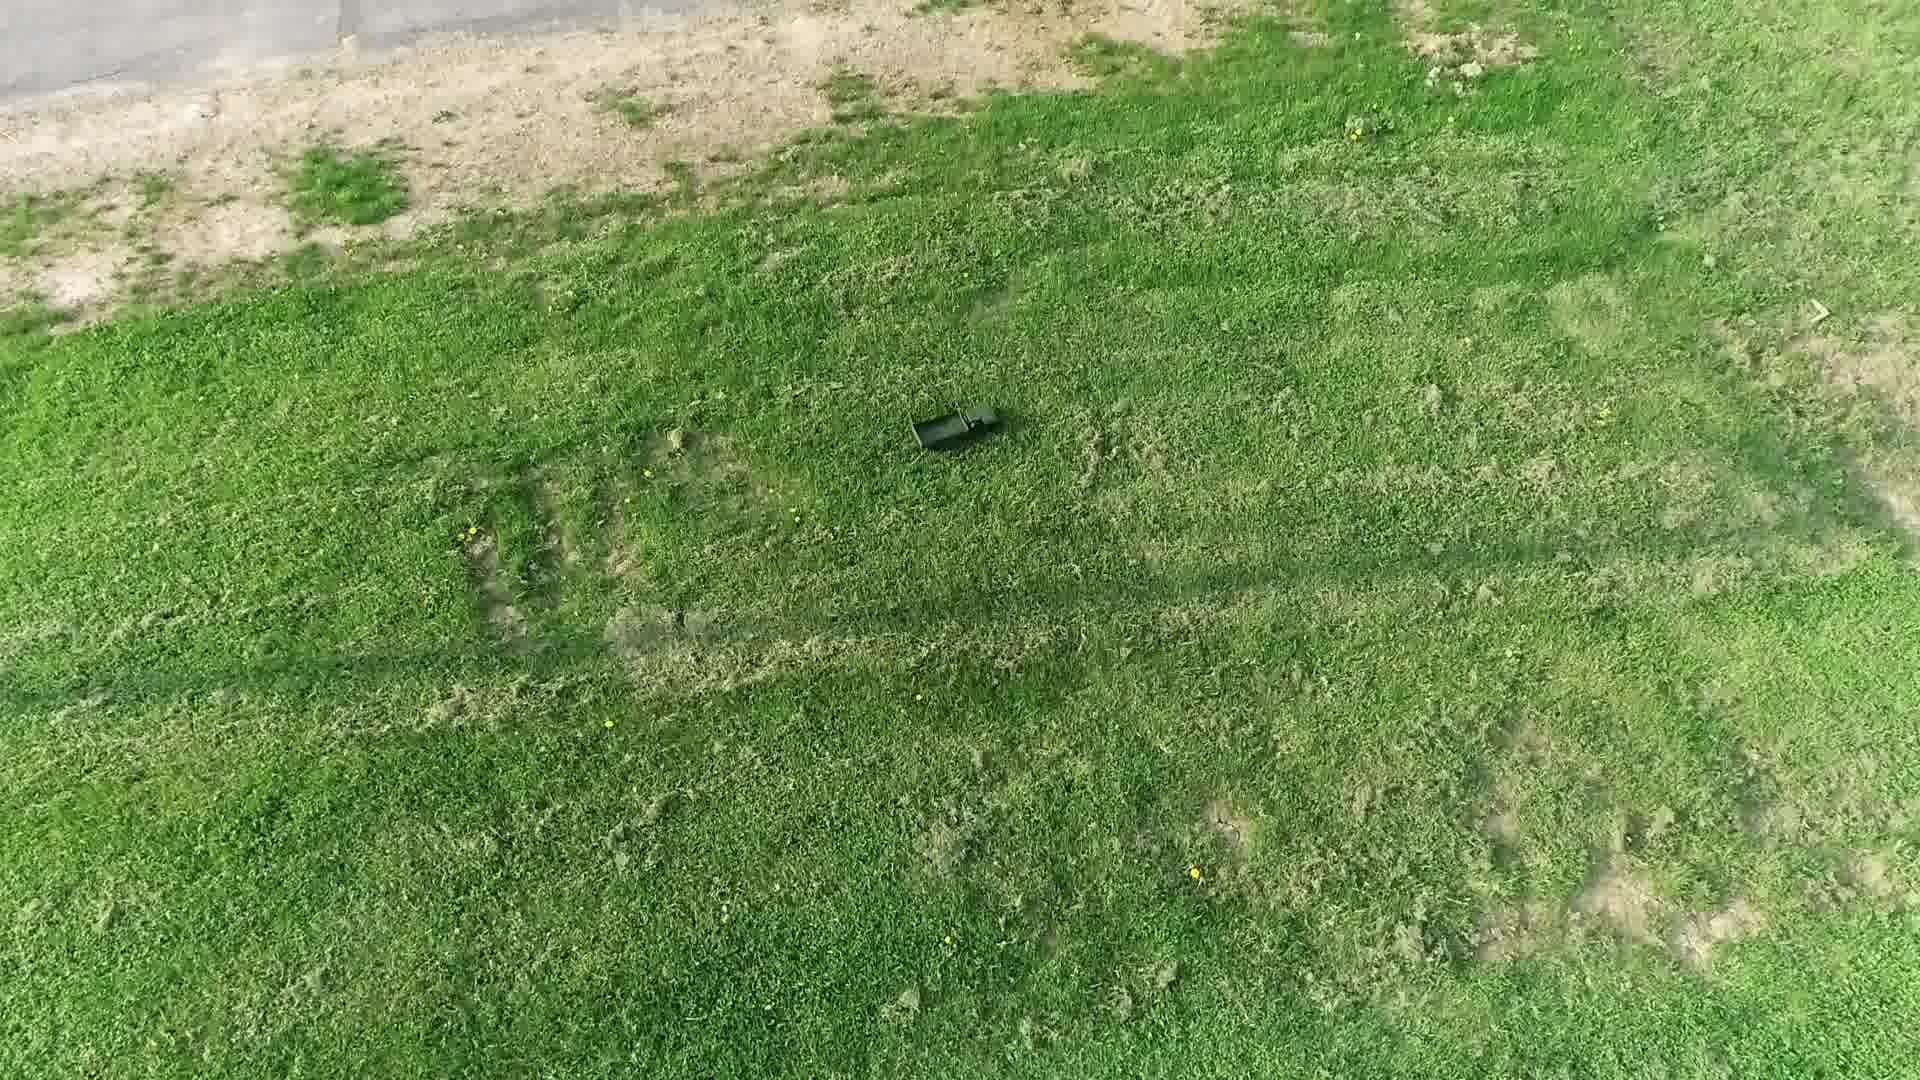transporter9: (906, 396, 1009, 456)
